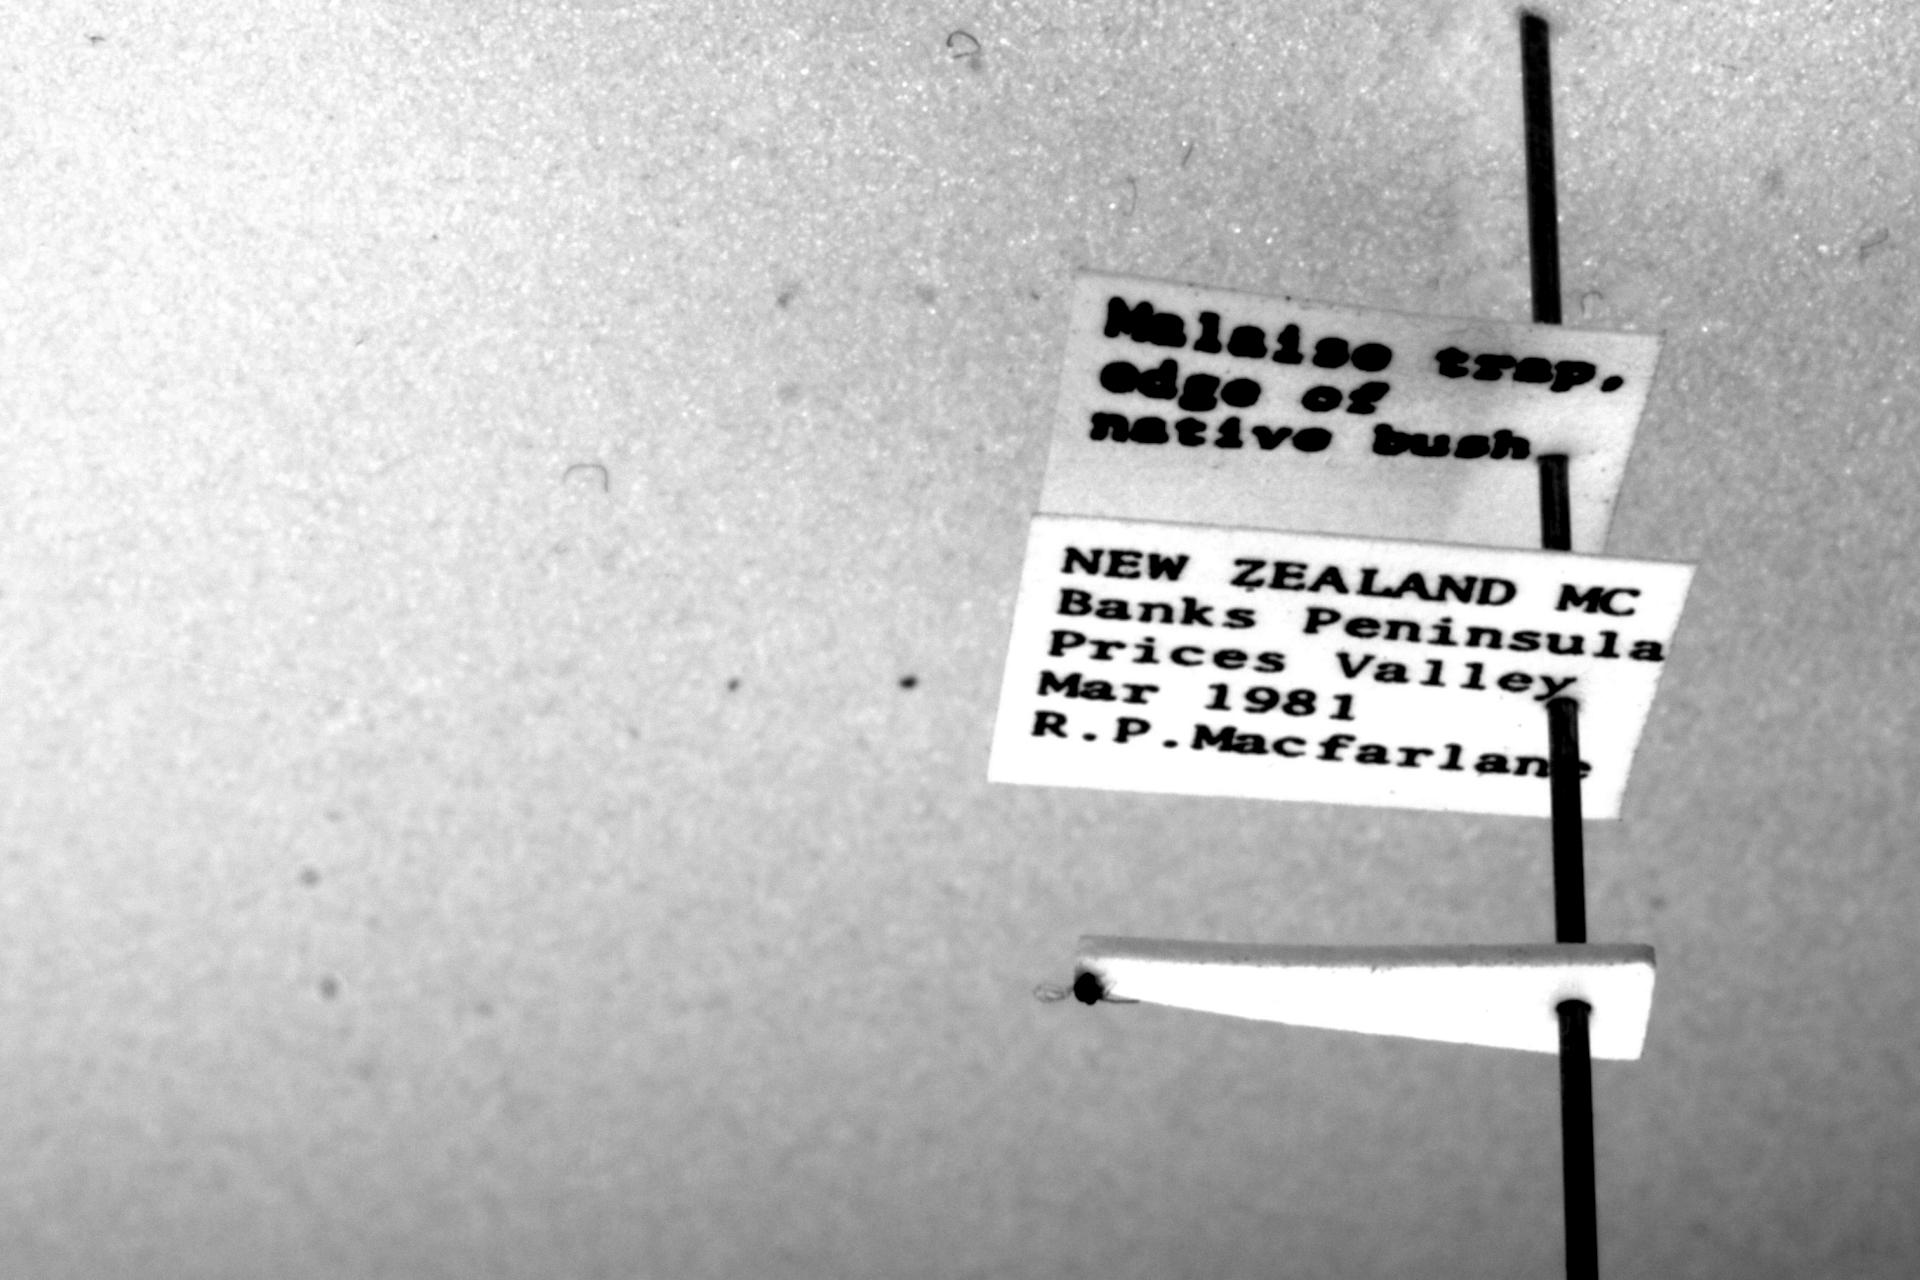typed_label: (990, 518, 1691, 818), (1039, 270, 1661, 555)
